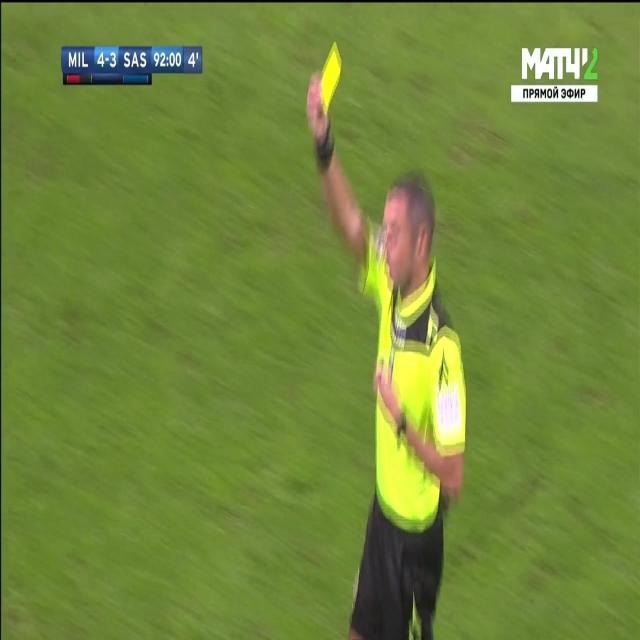Referee: (304, 39, 470, 640)
